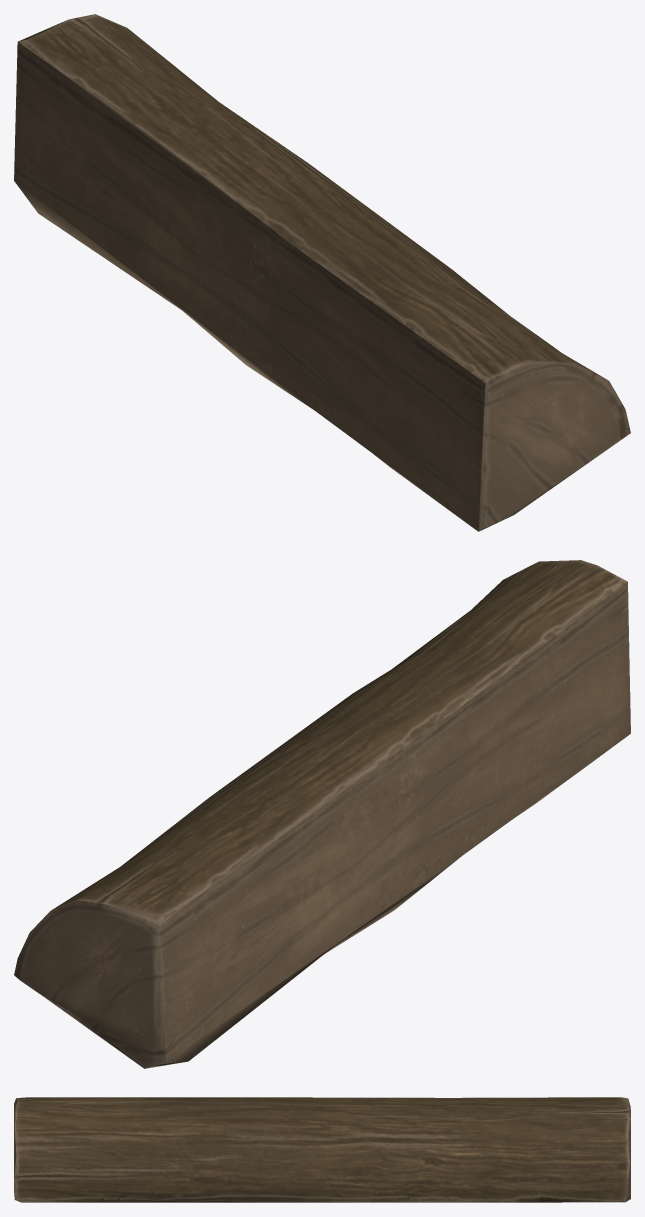
File: SM_FireWood_00.fbx
The picture shows the model from 3 angles, top to bottom: view 1: azimuth 30°, elevation 25°; view 2: azimuth 150°, elevation 25°; view 3: azimuth 270°, elevation 25°; orthographic projection. The views are drawn at different scales.
Parts seen in each view (by area): view 1: Firewood_00; view 2: Firewood_00; view 3: Firewood_00.
Boxes of the visible parts, left/top/right/bottom form: Firewood_00: left=14, top=14, right=630, bottom=531; Firewood_00: left=14, top=560, right=630, bottom=1068; Firewood_00: left=14, top=1097, right=630, bottom=1202.
Bounding box in the file's own units: 18.07 × 18.64 × 97.05.
1 material, 1 textured.
